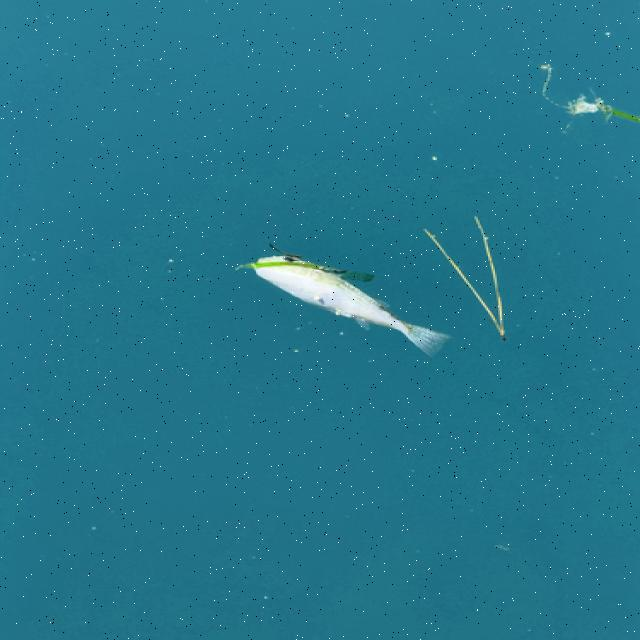Balik: (241, 253, 448, 355)
